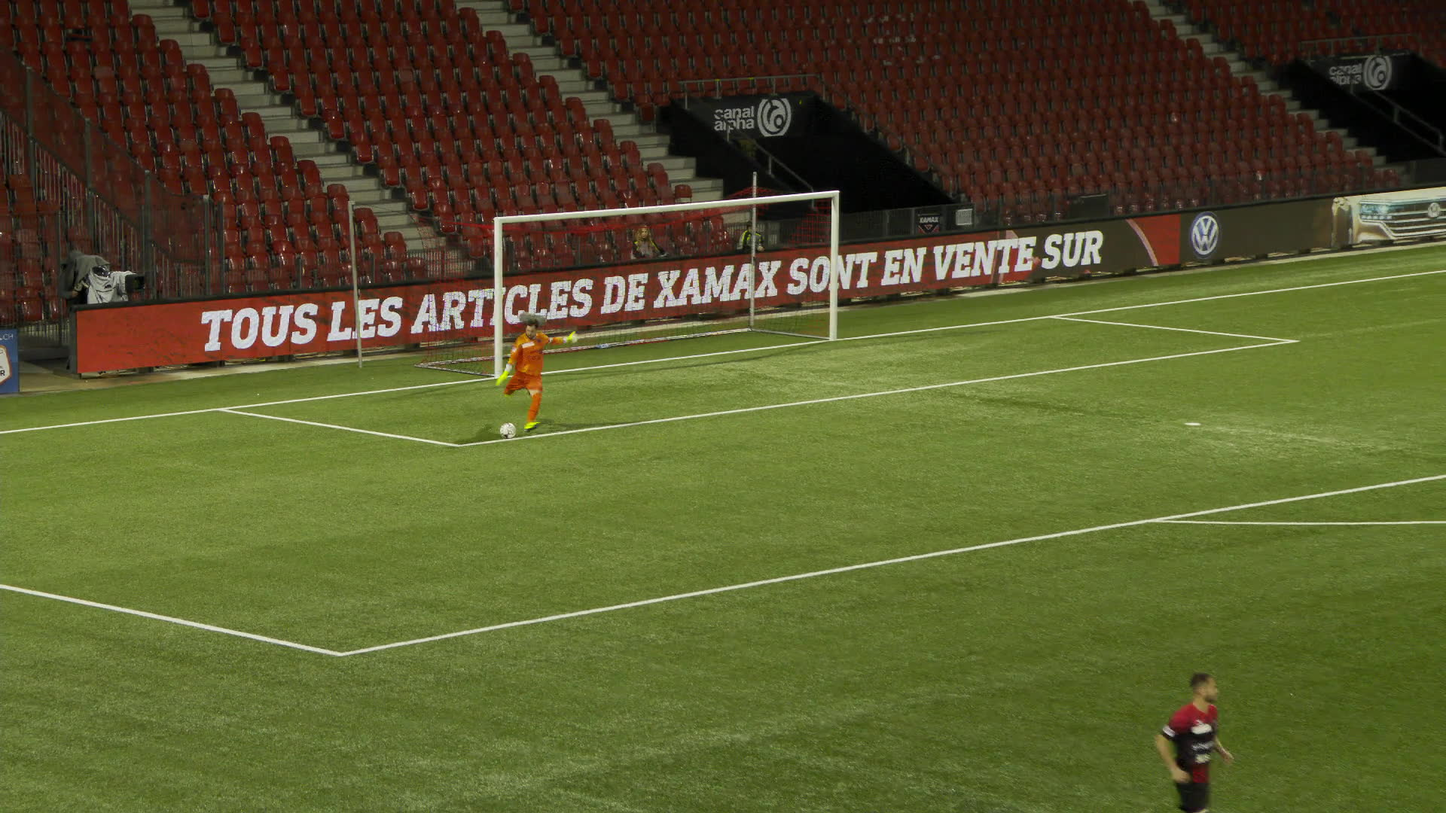ball: (498, 424, 513, 438)
player: (1148, 674, 1222, 812), (486, 323, 580, 431)
